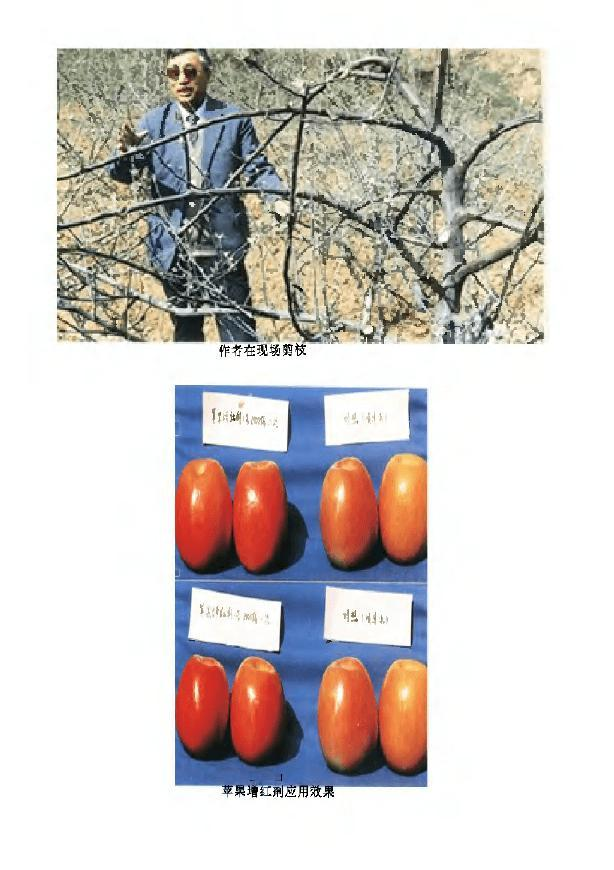apple: (318, 656, 379, 773), (317, 457, 380, 570), (175, 456, 233, 575), (234, 458, 288, 574), (228, 655, 284, 764), (379, 656, 427, 775), (175, 655, 228, 760), (379, 452, 427, 564)
